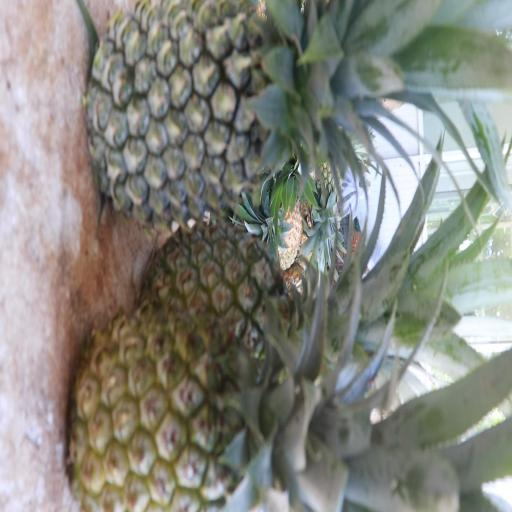------------------------------: (66, 295, 398, 509), (134, 218, 359, 379)
